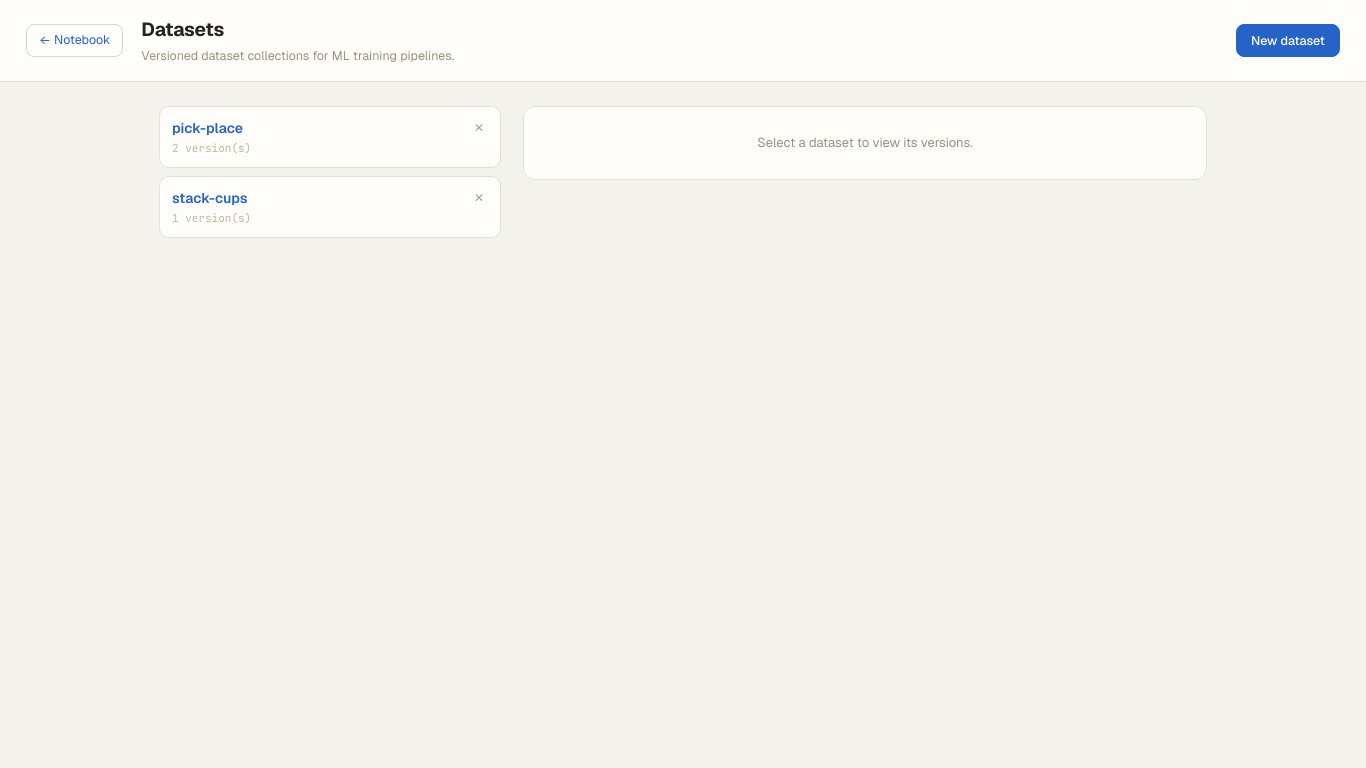
notebook Datasets page › keeps a failed-columns error on the page until an export works
Click the text "pick-place" at (208, 128), box 172,119 -> 243,137
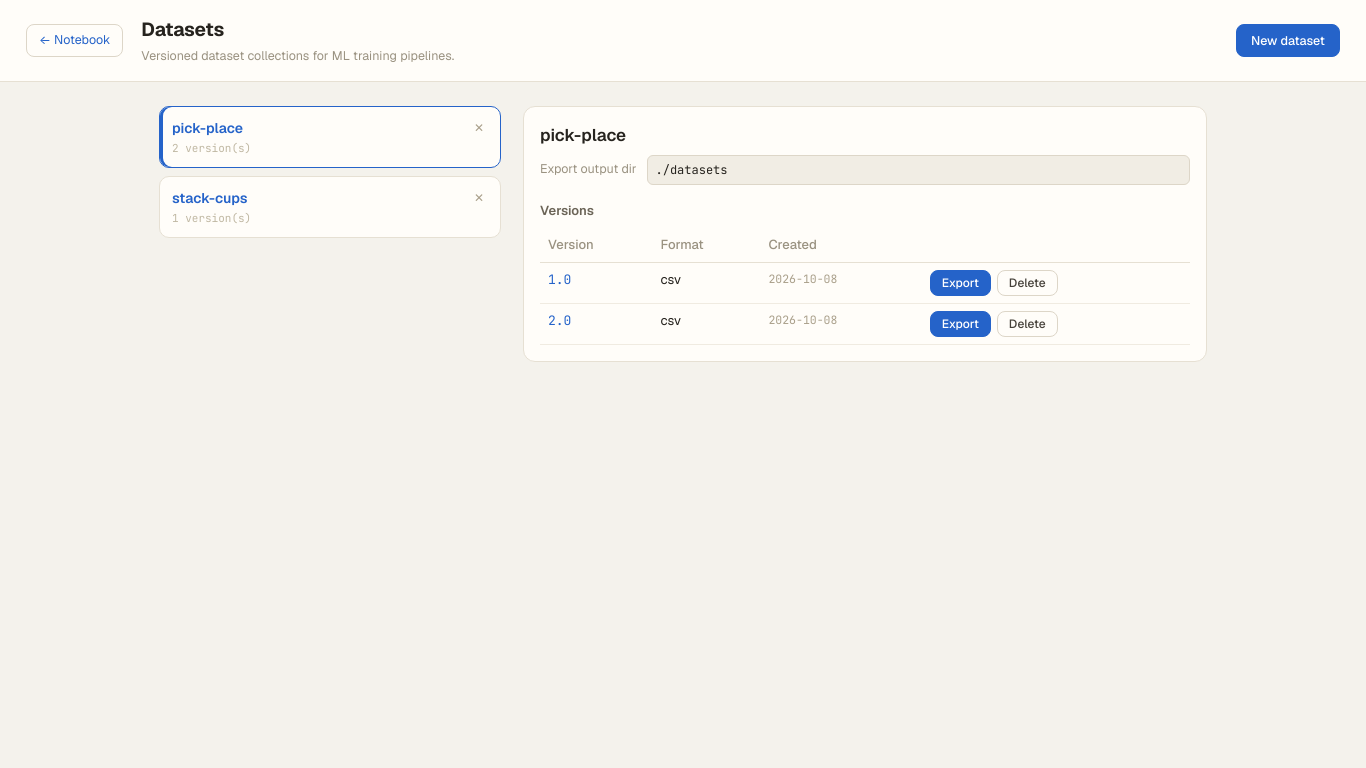
Click the button "Export" in the row of "1.0" at (960, 283), box 930,270 -> 991,296
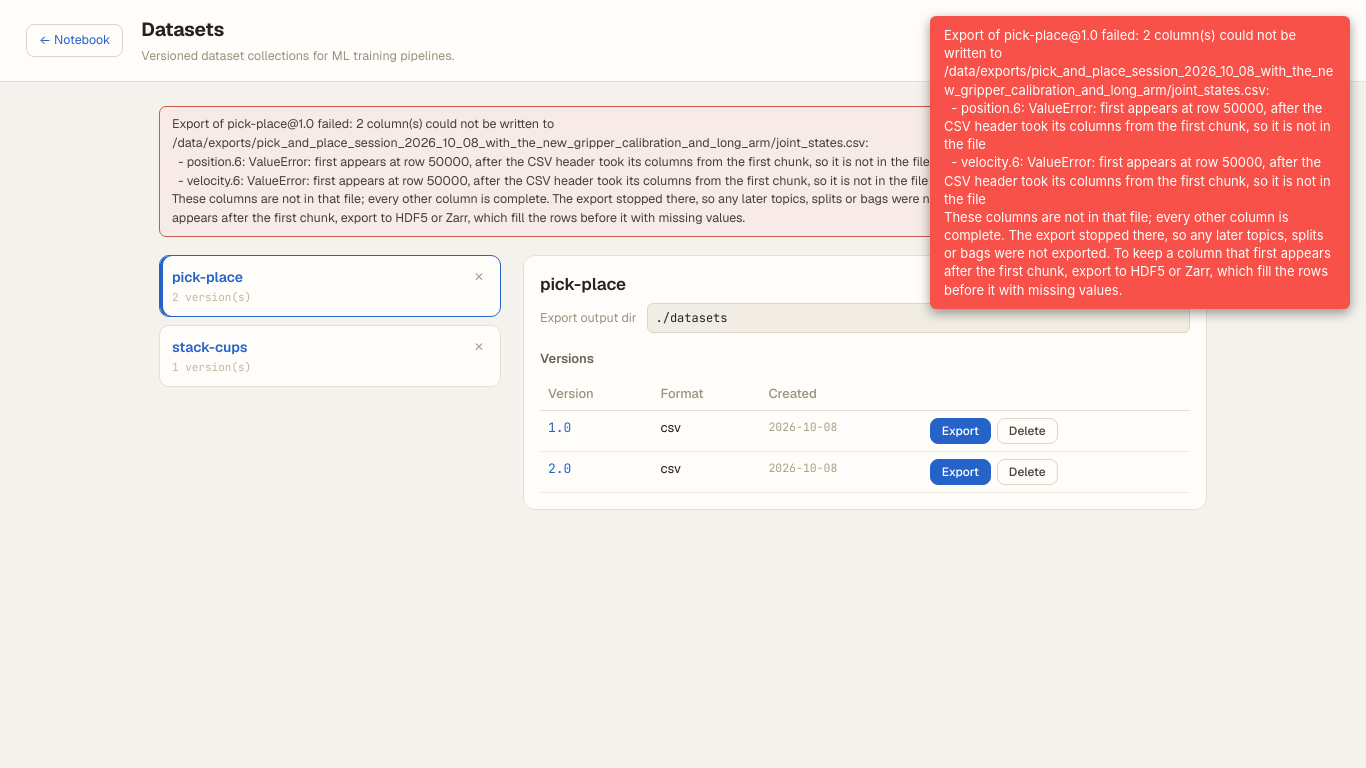
Click the 1st button "Export" at (960, 431), box 930,418 -> 991,444
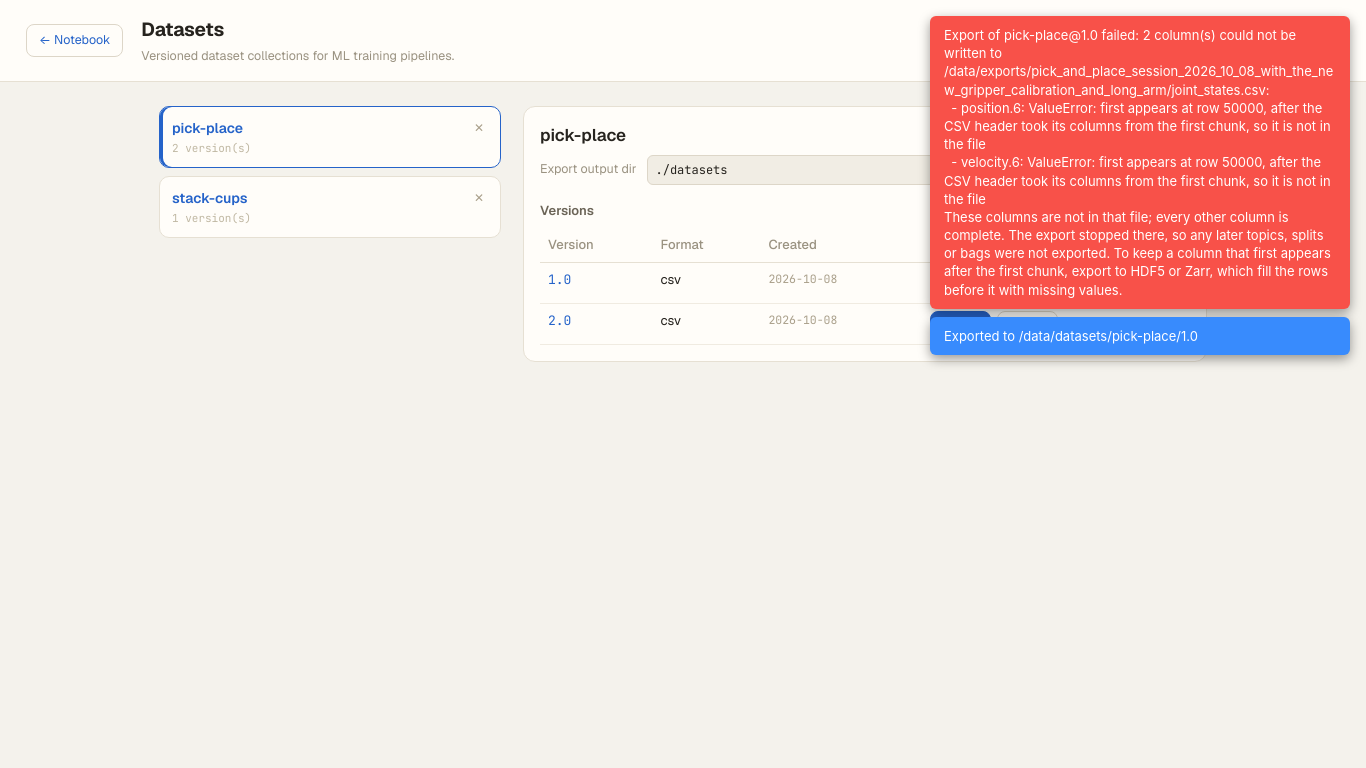
Check: the text "Exported to /data/datasets/pick-place/1.0" is shown, box 930,317 -> 1350,355
Check: the text with test id "export-failure" is gone
